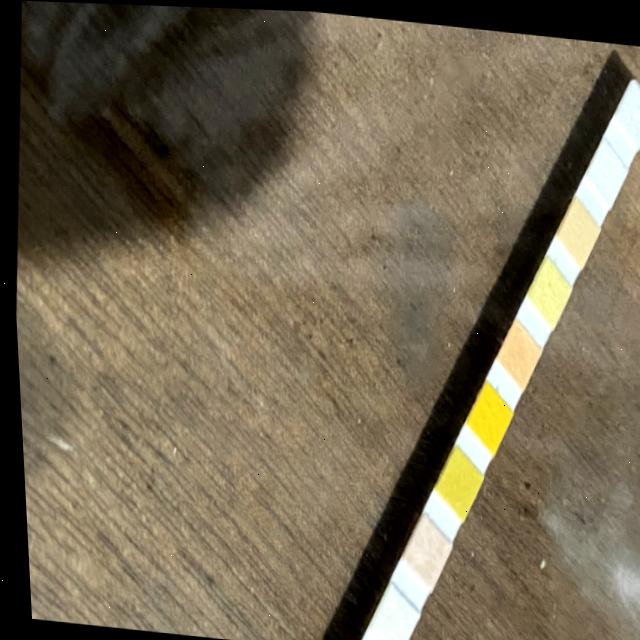Bilirubin: (372, 597, 401, 639)
Blood: (471, 391, 499, 430)
Ketone: (405, 526, 434, 571)
Leukocytes: (620, 89, 640, 124)
Nitrite: (591, 150, 619, 184)
Protein: (533, 269, 560, 303)
SpGravity: (440, 457, 466, 499)
Urobilinogen: (564, 206, 590, 244)
pH: (503, 329, 528, 366)
